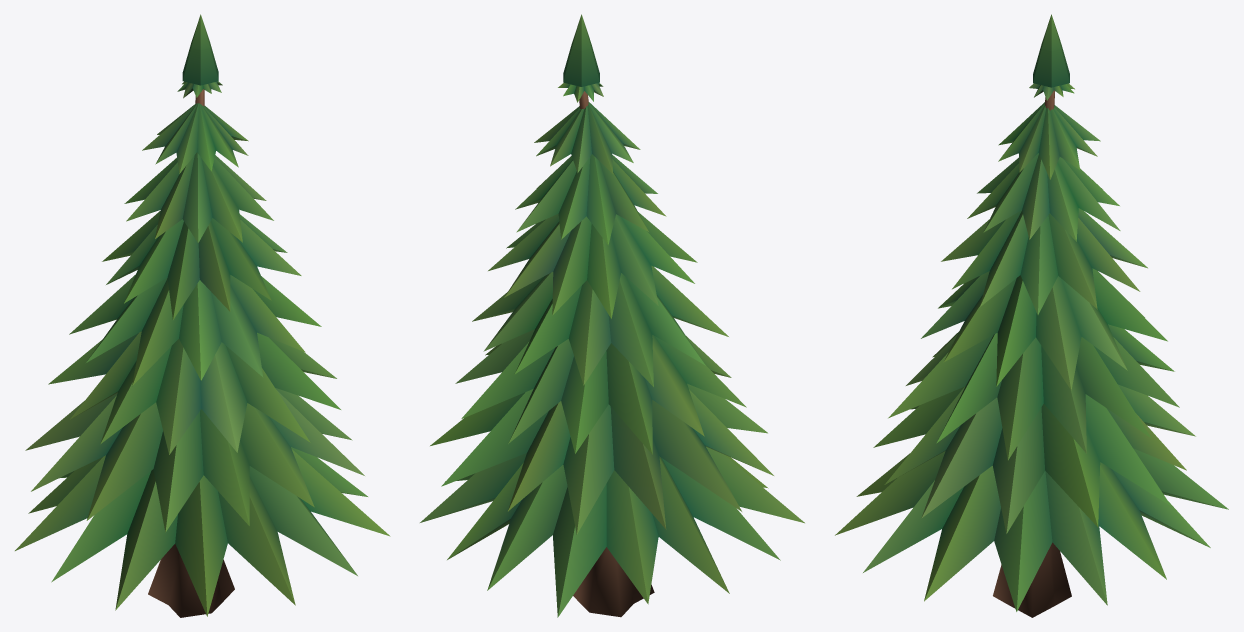
Rendered from f_pine1.glb.
3 views of the same model, side by side, from view 1: azimuth 30°, elevation 25°; view 2: azimuth 150°, elevation 25°; view 3: azimuth 270°, elevation 25° (orthographic). The views are drawn at different scales.
Visible parts, largest first — view 1: pine1; view 2: pine1; view 3: pine1.
Boxes of the visible parts, bbox=[...] form: pine1: bbox=[15, 14, 390, 617]; pine1: bbox=[420, 14, 804, 617]; pine1: bbox=[835, 14, 1228, 617].
Bounding box in the file's own units: 5.39 × 9.15 × 5.54.
